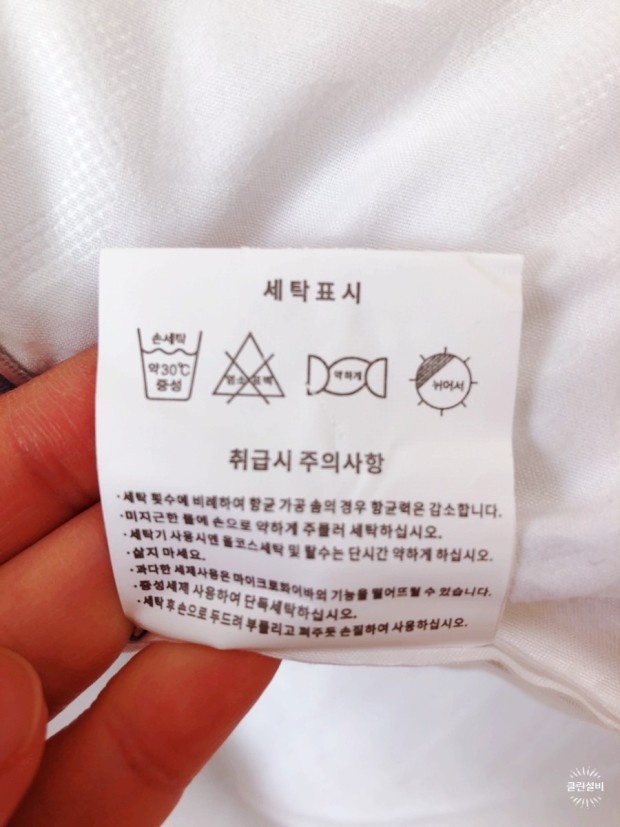KR_flat_dry_in_shade: (408, 346, 476, 415)
KR_gentle_wring: (300, 347, 393, 404)
KR_hand_wash_30_neutral: (129, 319, 205, 407)
KR_no_chlorine_bleach: (211, 329, 288, 407)
